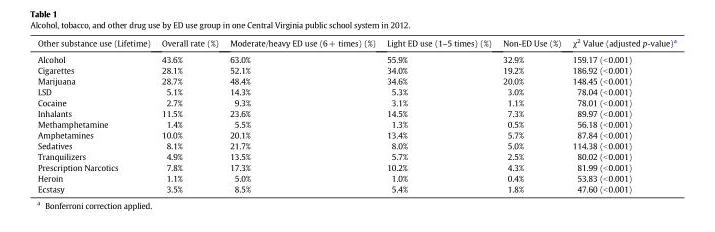table: (36, 36, 675, 193)
table column: (223, 36, 380, 193), (36, 36, 155, 193), (380, 36, 496, 193), (566, 36, 675, 193), (496, 36, 566, 193), (155, 36, 223, 193)
table column header: (36, 36, 675, 50)
table row: (36, 36, 675, 50), (36, 50, 675, 64), (36, 64, 675, 75), (36, 75, 675, 86), (36, 96, 675, 107), (36, 107, 675, 118), (36, 118, 675, 129), (36, 139, 675, 150), (36, 150, 675, 161), (36, 161, 675, 172), (36, 172, 675, 183), (36, 86, 675, 96), (36, 129, 675, 139), (36, 183, 675, 193)
